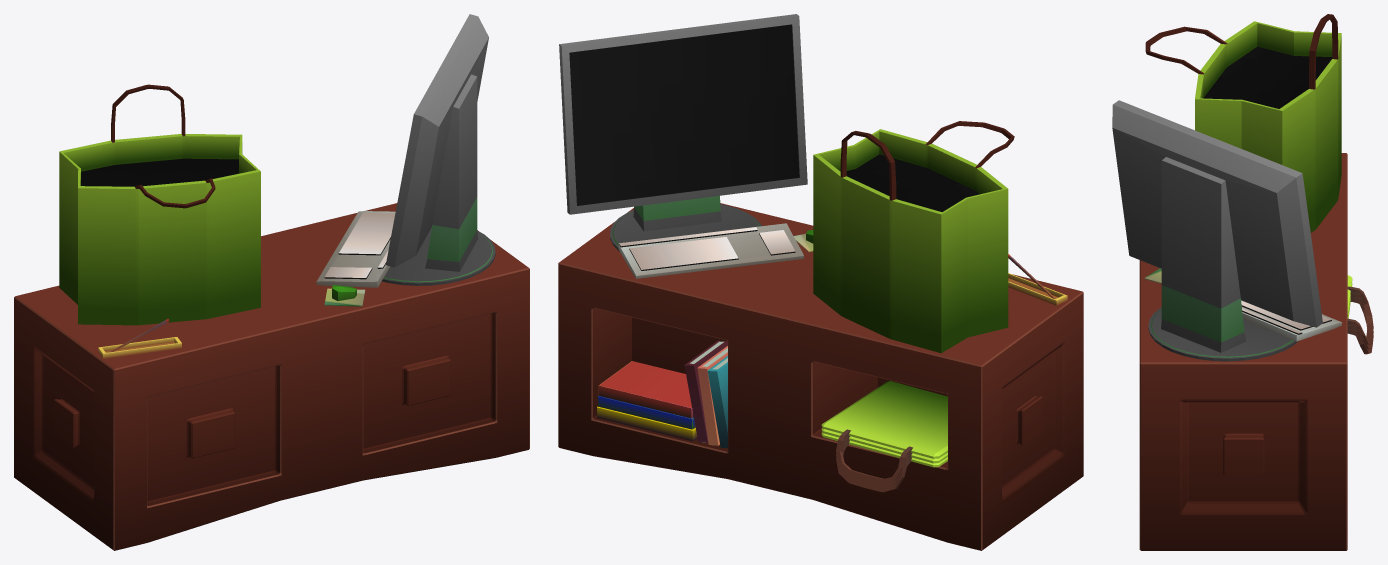
Rendered from CheckoutCounter 1.fbx.
3 views of the same model, side by side, from view 1: azimuth 30°, elevation 25°; view 2: azimuth 150°, elevation 25°; view 3: azimuth 270°, elevation 25° (orthographic). The views are drawn at different scales.
Parts seen in each view (by area): view 1: Counter, PaperBag, CheckoutMonitor, Keyboard, IncenseHolder; view 2: Counter, CheckoutMonitor, PaperBag, CheckoutBag.002, Keyboard, Book.002, Book.003, Book.005, Book, Book.004, Book.001, CheckoutBag.003 (+2 smaller); view 3: Counter, CheckoutMonitor, PaperBag, Keyboard, CheckoutBag.002.
Part boxes in pixels (x1,y1,x2,y2): Counter: [14, 203, 529, 550]; PaperBag: [59, 84, 260, 325]; CheckoutMonitor: [382, 14, 495, 285]; Keyboard: [316, 211, 395, 287]; IncenseHolder: [98, 318, 181, 358]; Counter: [558, 203, 1083, 550]; CheckoutMonitor: [559, 14, 807, 251]; PaperBag: [813, 121, 1014, 353]; CheckoutBag.002: [821, 381, 947, 483]; Keyboard: [618, 223, 803, 278]; Book.002: [598, 361, 693, 418]; Book.003: [684, 340, 727, 442]; Book.005: [707, 356, 727, 447]; Book: [597, 406, 697, 441]; Book.004: [697, 346, 727, 445]; Book.001: [598, 395, 695, 429]; CheckoutBag.003: [821, 428, 947, 488]; Counter: [1139, 153, 1347, 550]; CheckoutMonitor: [1112, 100, 1322, 361]; PaperBag: [1145, 14, 1341, 232]; Keyboard: [1241, 300, 1342, 341]; CheckoutBag.002: [1347, 275, 1373, 344].
Size of the model in its own units: 507 by 411 by 251.
